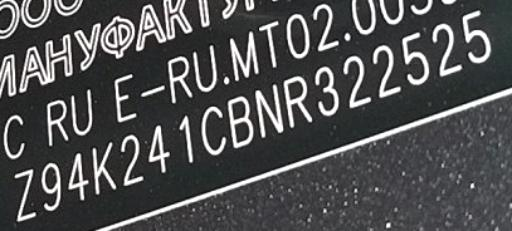letter: (430, 19, 464, 78), (252, 81, 286, 140), (7, 167, 39, 224), (460, 8, 492, 65), (400, 31, 432, 88), (341, 52, 373, 109), (116, 131, 148, 187), (371, 43, 403, 98), (282, 73, 314, 128), (224, 95, 256, 150), (89, 139, 119, 196), (198, 103, 228, 158), (146, 120, 172, 177), (38, 160, 64, 214), (314, 65, 340, 118), (66, 150, 92, 202), (174, 112, 194, 167)
